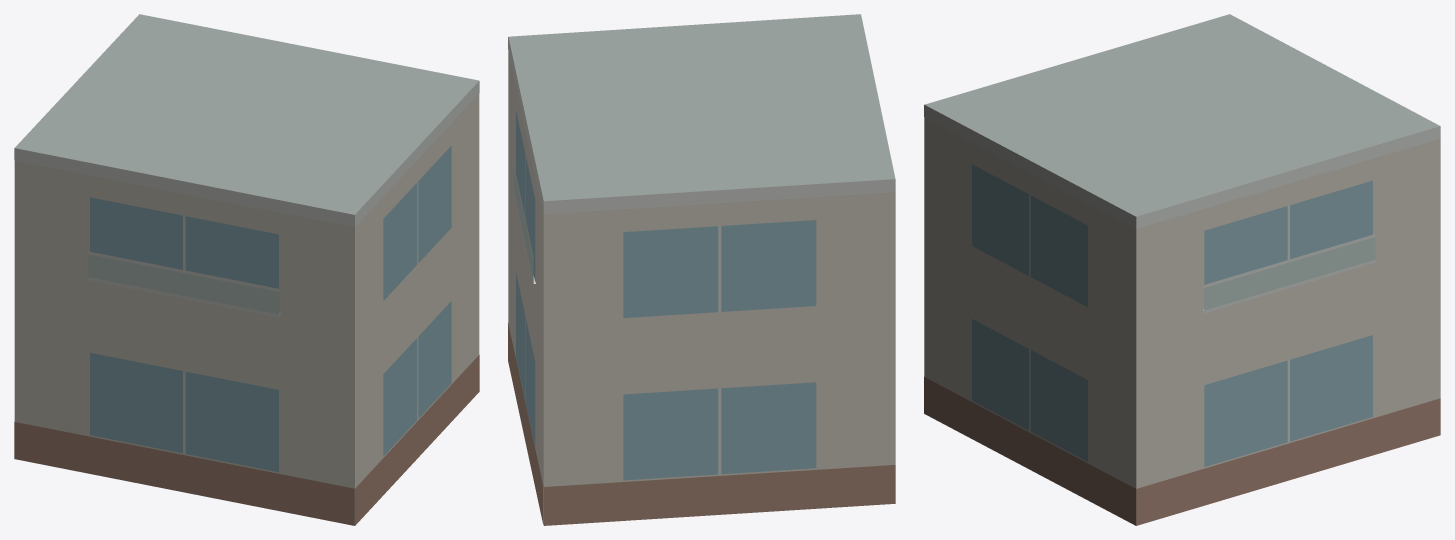
Rendered from survey-upis-32616669.glb.
3 views of the same model, side by side, from view 1: azimuth 30°, elevation 25°; view 2: azimuth 150°, elevation 25°; view 3: azimuth 270°, elevation 25° (orthographic). The views are drawn at different scales.
Parts seen in each view (by area): view 1: survey-upis-32616669.tmp; view 2: survey-upis-32616669.tmp; view 3: survey-upis-32616669.tmp.
Part boxes in pixels (x1,y1,x2,y2): survey-upis-32616669.tmp: (14,14,479,525); survey-upis-32616669.tmp: (508,14,895,525); survey-upis-32616669.tmp: (924,14,1440,525).
Bounding box in the file's own units: 8.59 × 6.1 × 9.24.
